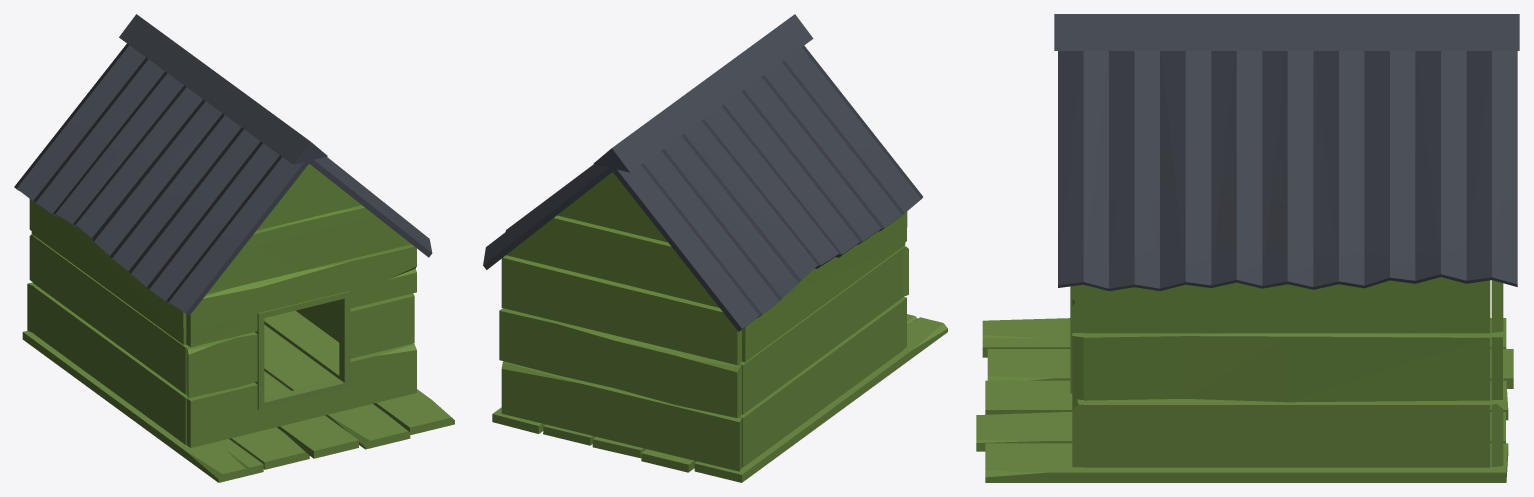
File: Doghouse_01.fbx
3 renders of one model, left to right at view 1: azimuth 30°, elevation 25°; view 2: azimuth 150°, elevation 25°; view 3: azimuth 270°, elevation 25°, orthographic. The views are drawn at different scales.
Parts seen in each view (by area): view 1: Doghouse_01; view 2: Doghouse_01; view 3: Doghouse_01.
Boxes of the visible parts, x1=… form: Doghouse_01: x1=14, y1=14, x2=454, y2=482; Doghouse_01: x1=483, y1=14, x2=947, y2=482; Doghouse_01: x1=976, y1=14, x2=1519, y2=482.
Bounding box in the file's own units: 0.9621 × 1.02 × 1.28.
